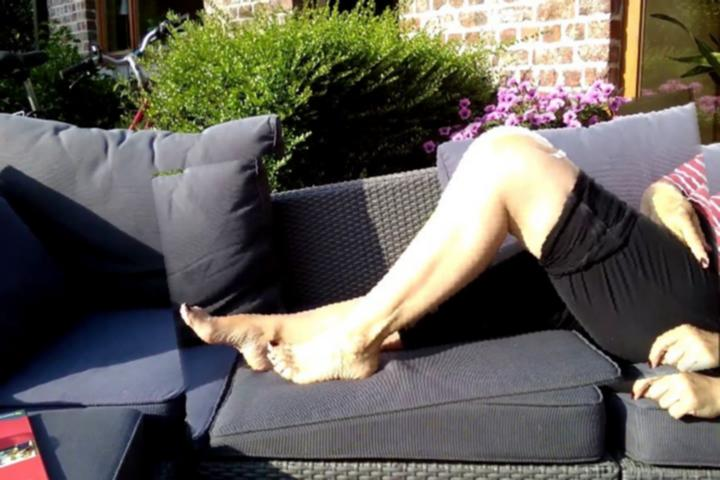lower_body: (160, 109, 720, 430)
